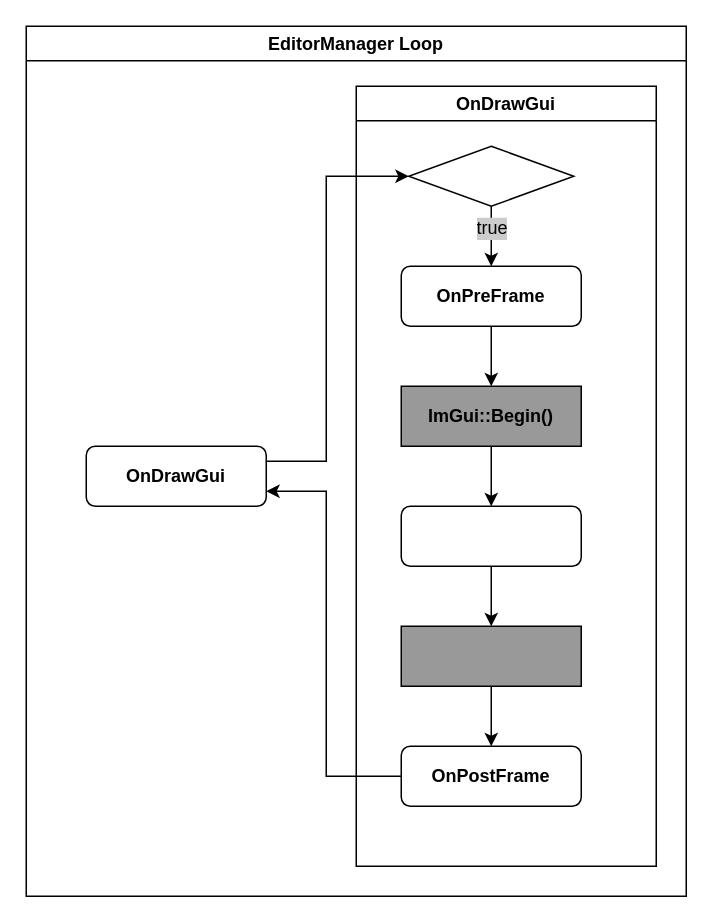
The diagram is 713 pixels wide and 923 high, and some of its shapes have lost their labels. The shapes that lost their labels are listed below. From the top down, each one's box as (x1, y1, x2, y2) in pixels, then its label:
(407, 145, 574, 206): IsActive
(400, 505, 581, 566): OnFrame
(400, 625, 581, 686): ImGui::End()
